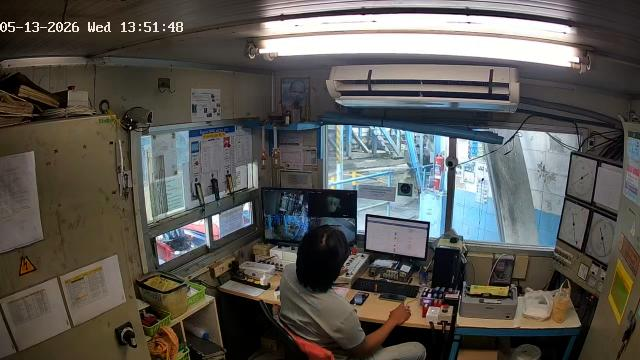Head: (296, 225, 349, 292)
People: (279, 226, 425, 359)
Phone: (350, 292, 369, 305), (379, 293, 406, 302)
